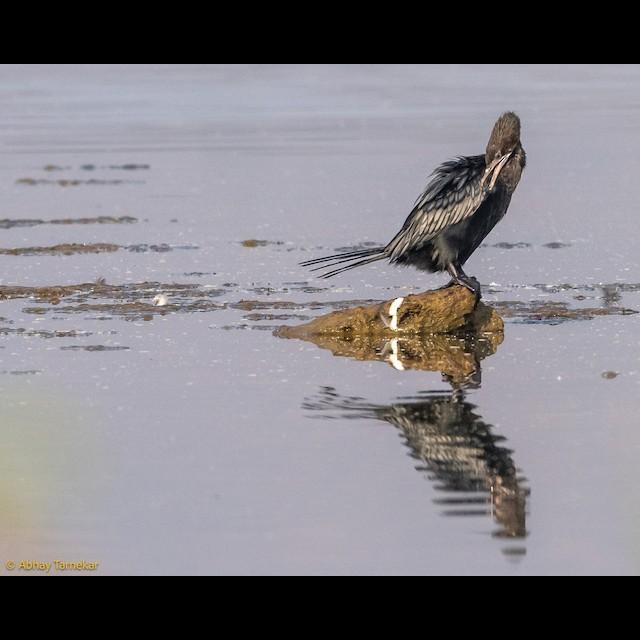cormorant: (318, 109, 542, 285)
